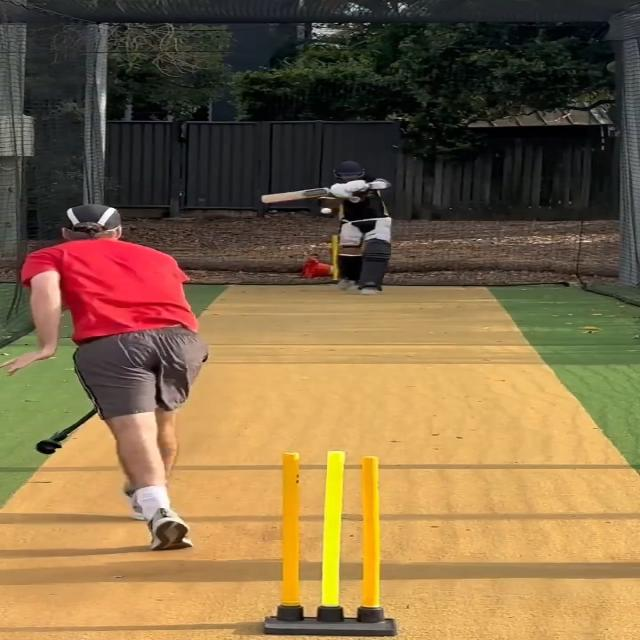stump: (266, 449, 397, 637)
